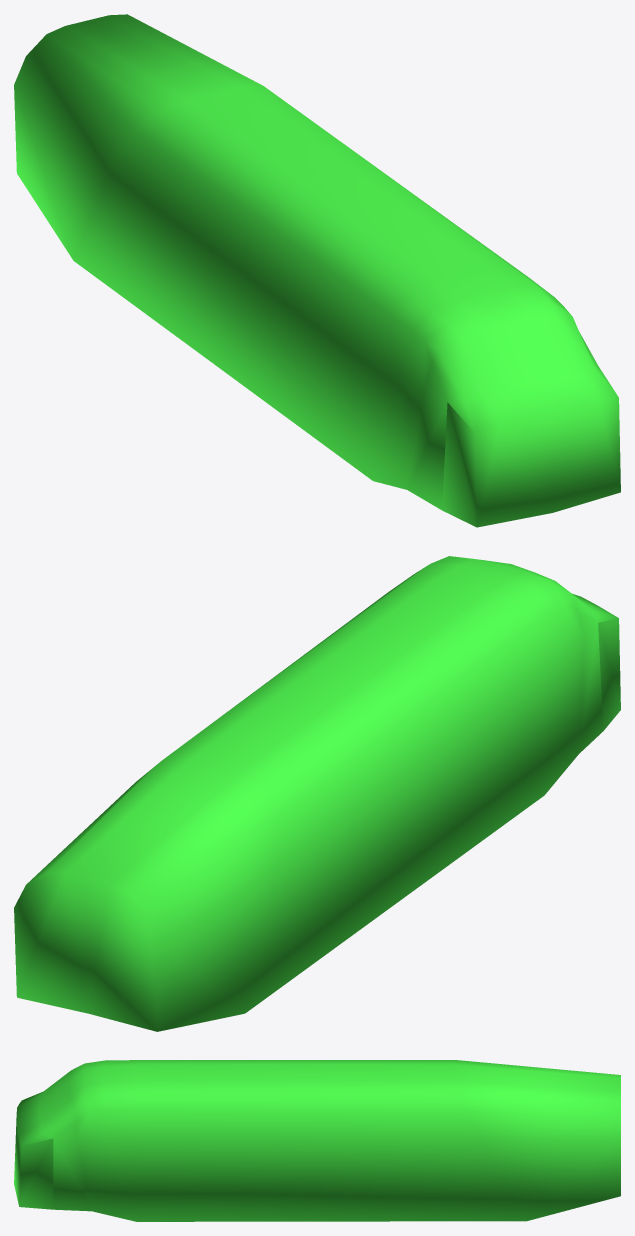
The model's file is KINGAIR_350I_interior_LOD4.gltf.
3 views of the same model, one above another, from view 1: azimuth 30°, elevation 25°; view 2: azimuth 150°, elevation 25°; view 3: azimuth 270°, elevation 25° (orthographic). The views are drawn at different scales.
Parts seen in each view (by area): view 1: OCCLUDER; view 2: OCCLUDER; view 3: OCCLUDER.
Boxes of the visible parts, <box> form: OCCLUDER: <box>14,14,620,527</box>; OCCLUDER: <box>14,556,620,1031</box>; OCCLUDER: <box>14,1060,620,1221</box>.
Size of the model in its own units: 1.6 by 1.66 by 7.51.
